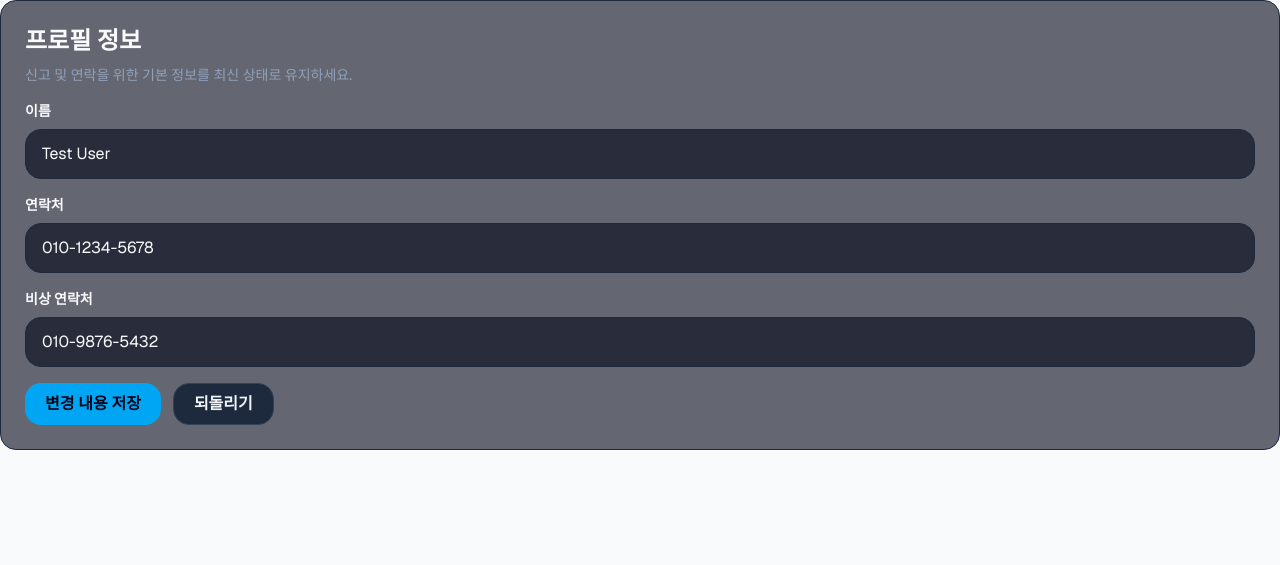
Test: ProfileForm › handles server error
Replace the text in the field labelled "이름" with "Updated Name" at (640, 154), box [25,129,1255,179]
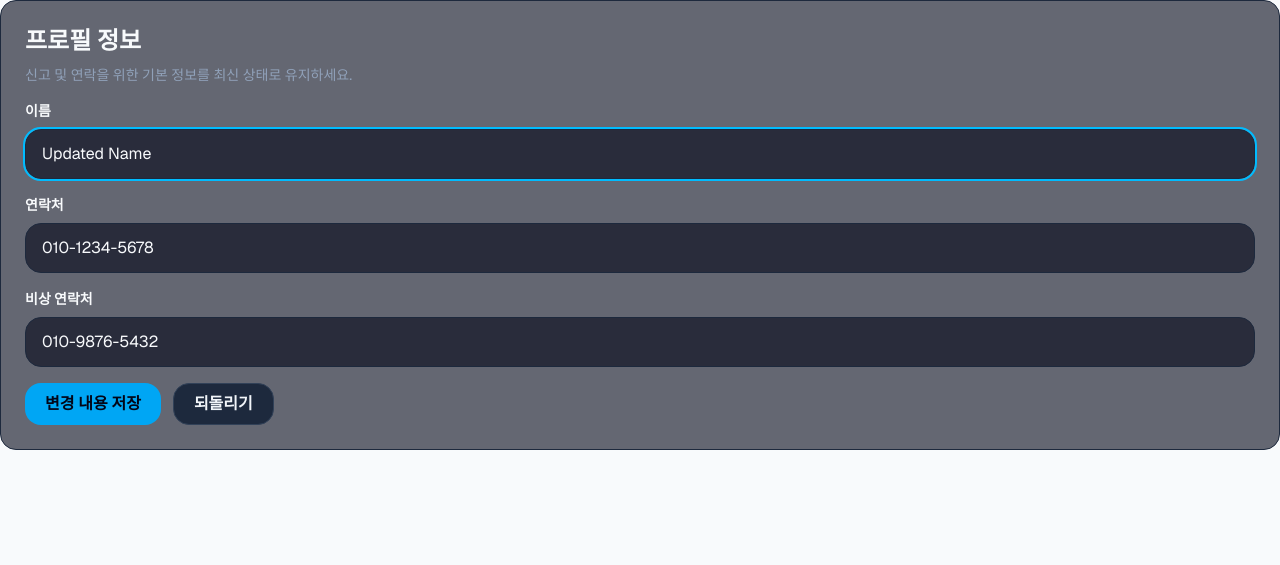
Click the button "변경 내용 저장" at (93, 404), box [25,383,161,425]
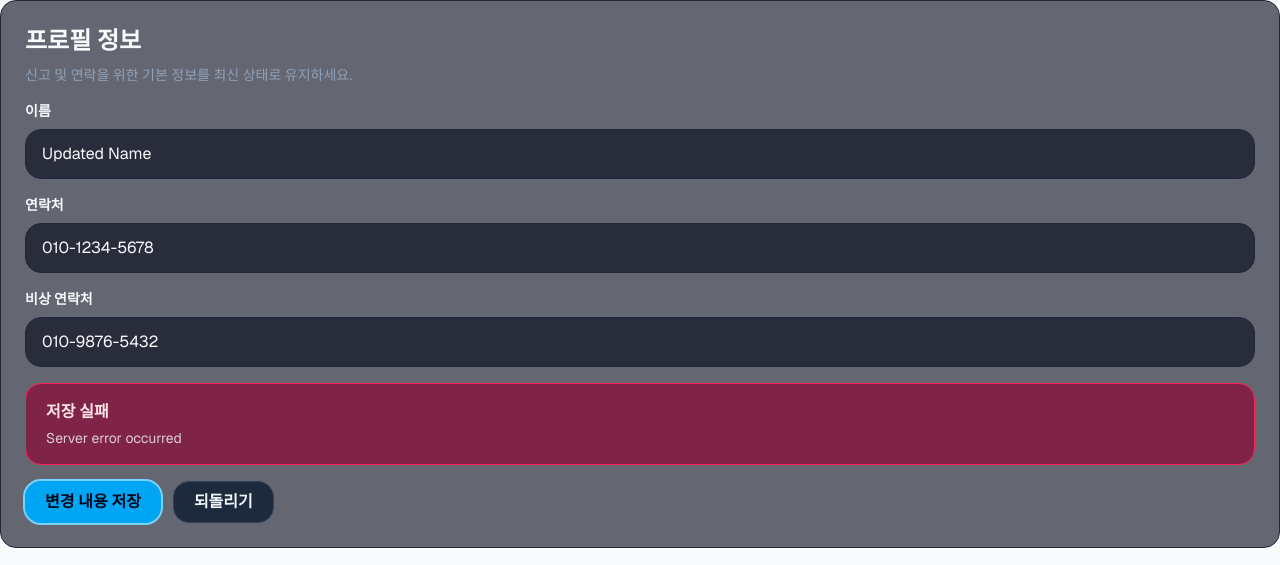
Result: the text "저장 실패" is shown at [46,401,109,422]
Result: the text "Server error occurred" is shown at [46,429,182,447]
